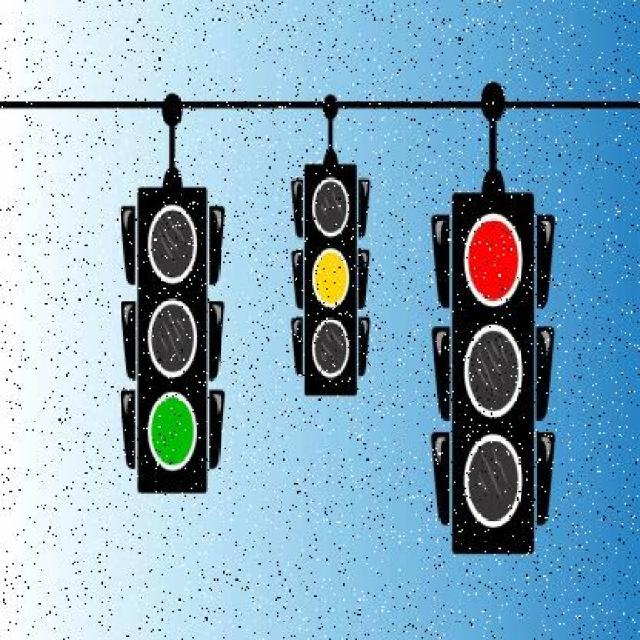green-light: (106, 180, 252, 512)
red-light: (407, 190, 573, 570)
yellow-light: (296, 160, 370, 392)
